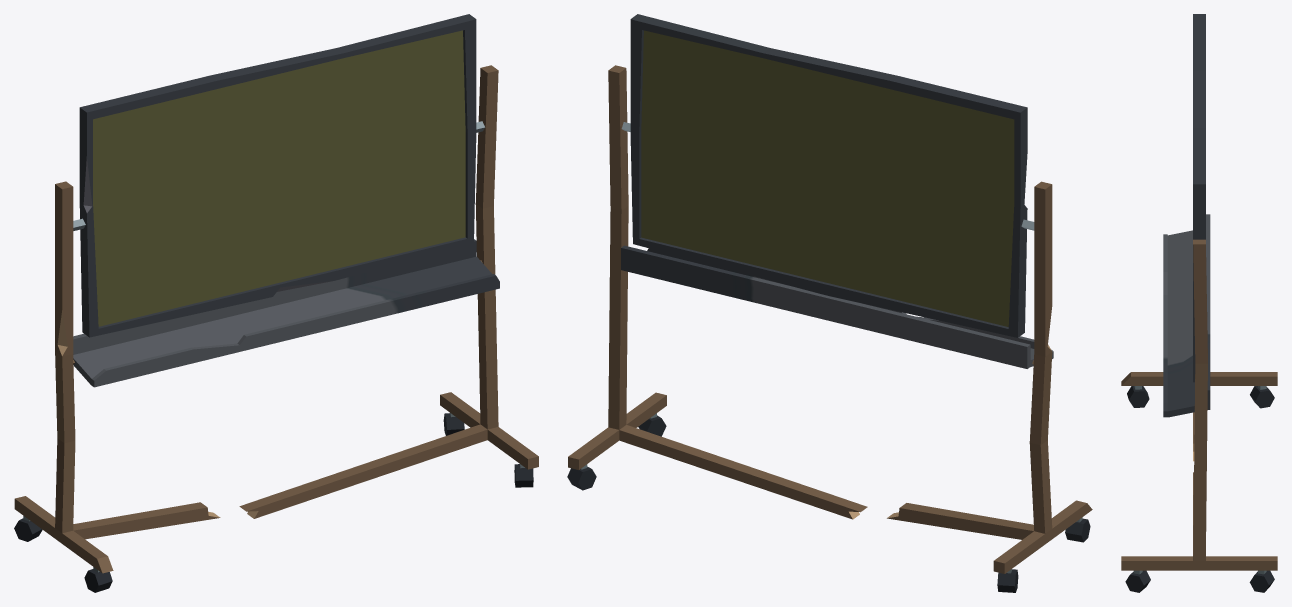
The model's file is SM_Chalk_Board_A.gltf.
The picture shows the model from 3 angles, left to right: view 1: azimuth 30°, elevation 25°; view 2: azimuth 150°, elevation 25°; view 3: azimuth 270°, elevation 25°; orthographic projection. The views are drawn at different scales.
Parts seen in each view (by area): view 1: SM_Board, SM_Chalk_Board_A; view 2: SM_Board, SM_Chalk_Board_A; view 3: SM_Chalk_Board_A, SM_Board.
Part boxes in pixels (x1,y1,x2,y2): SM_Board: (79,14,476,337); SM_Chalk_Board_A: (14,65,538,592); SM_Board: (630,14,1027,337); SM_Chalk_Board_A: (567,65,1092,592); SM_Chalk_Board_A: (1121,214,1277,592); SM_Board: (1193,14,1205,382).
Bounding box in the file's own units: 2.31 × 2.22 × 0.7861.
Materials: 1 (1 with a texture image).
